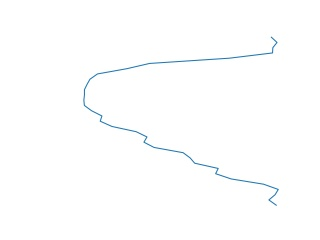mouthBar: (79, 34, 282, 208)
